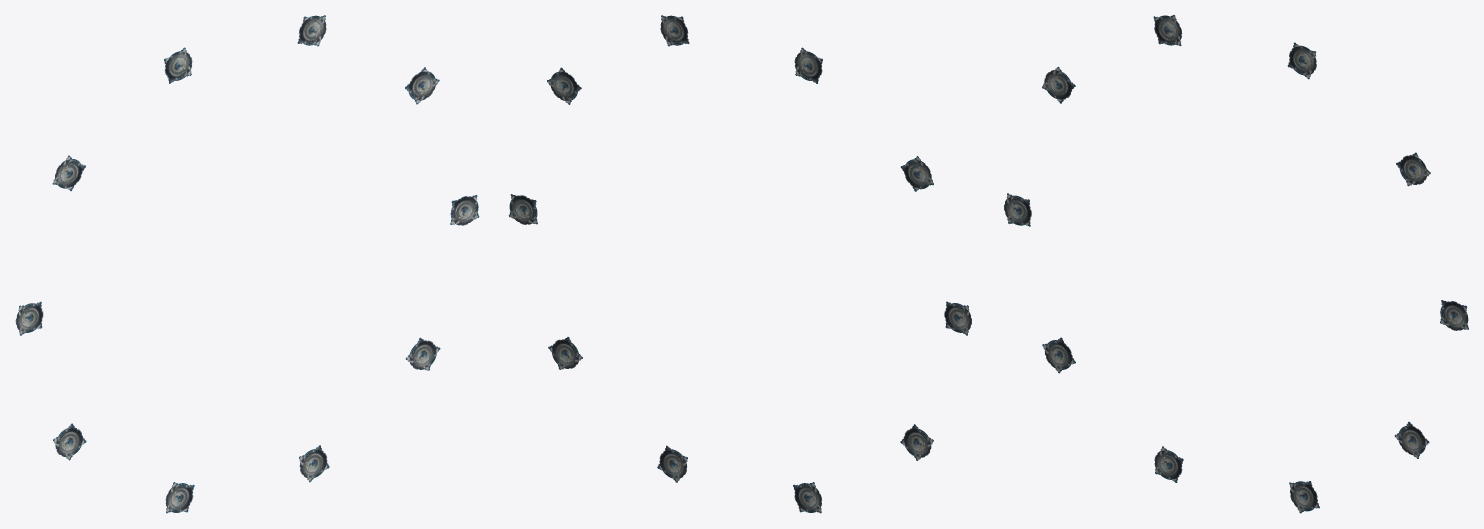
Rendered from Centipede_EnemyOrbs.fbx.
3 renders of one model, left to right at view 1: azimuth 30°, elevation 25°; view 2: azimuth 150°, elevation 25°; view 3: azimuth 330°, elevation 25°, orthographic.
Parts seen in each view (by area): view 1: pPlane9, pPlane6, pPlane2, pPlane3, pPlane7, pPlane8, pPlane4, pPlane10, pPlane5, pPlane1; view 2: pPlane9, pPlane7, pPlane5, pPlane8, pPlane4, pPlane3, pPlane2, pPlane1, pPlane6, pPlane10; view 3: pPlane10, pPlane5, pPlane9, pPlane7, pPlane8, pPlane4, pPlane1, pPlane2, pPlane3, pPlane6.
Part boxes in pixels (x1=…): pPlane9: x1=297, y1=15, x2=326, y2=46; pPlane6: x1=405, y1=337, x2=440, y2=370; pPlane2: x1=15, y1=301, x2=43, y2=335; pPlane3: x1=53, y1=423, x2=86, y2=460; pPlane7: x1=450, y1=195, x2=479, y2=225; pPlane8: x1=405, y1=67, x2=439, y2=104; pPlane4: x1=165, y1=482, x2=194, y2=513; pPlane10: x1=164, y1=47, x2=192, y2=83; pPlane5: x1=299, y1=445, x2=329, y2=482; pPlane1: x1=52, y1=155, x2=85, y2=190; pPlane9: x1=660, y1=15, x2=689, y2=46; pPlane7: x1=508, y1=194, x2=537, y2=224; pPlane5: x1=657, y1=445, x2=687, y2=482; pPlane8: x1=547, y1=67, x2=581, y2=104; pPlane4: x1=793, y1=482, x2=821, y2=513; pPlane3: x1=900, y1=424, x2=933, y2=460; pPlane2: x1=944, y1=301, x2=971, y2=335; pPlane1: x1=901, y1=156, x2=933, y2=191; pPlane6: x1=548, y1=337, x2=582, y2=369; pPlane10: x1=794, y1=47, x2=822, y2=83; pPlane10: x1=1153, y1=15, x2=1182, y2=46; pPlane5: x1=1289, y1=481, x2=1319, y2=513; pPlane9: x1=1287, y1=42, x2=1316, y2=79; pPlane7: x1=1440, y1=300, x2=1468, y2=330; pPlane8: x1=1396, y1=152, x2=1430, y2=186; pPlane4: x1=1154, y1=446, x2=1183, y2=482; pPlane1: x1=1042, y1=67, x2=1075, y2=103; pPlane2: x1=1004, y1=193, x2=1031, y2=226; pPlane3: x1=1042, y1=337, x2=1075, y2=373; pPlane6: x1=1394, y1=421, x2=1429, y2=458.
Size of the model in its own units: 31.22 by 30.34 by 0.1294.
1 material, 1 textured.
